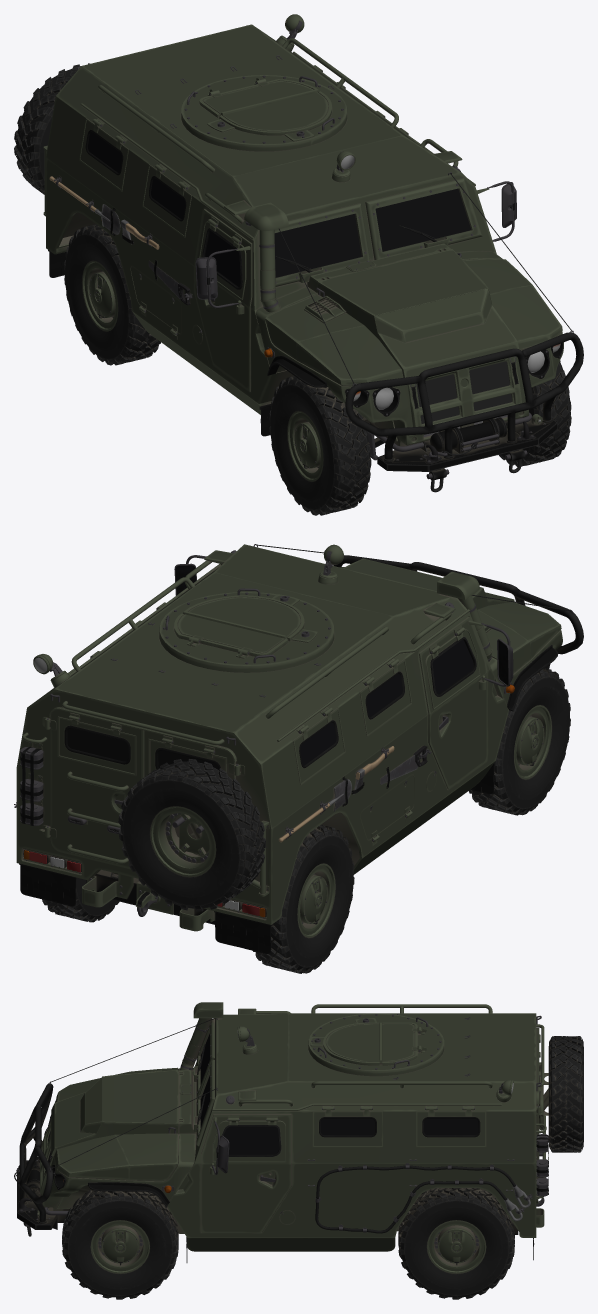
Rendered from tactical_car.glb.
The picture shows the model from 3 angles, top to bottom: view 1: azimuth 30°, elevation 25°; view 2: azimuth 150°, elevation 25°; view 3: azimuth 270°, elevation 25°; orthographic projection. The views are drawn at different scales.
Visible parts, largest first — view 1: Base.001, Tracks; view 2: Base.001, Tracks; view 3: Base.001, Tracks.
Part boxes in pixels (x1,y1,x2,y2): Base.001: (14, 14, 583, 492); Tracks: (64, 224, 571, 515); Base.001: (14, 544, 583, 953); Tracks: (42, 668, 570, 973); Base.001: (14, 1002, 583, 1262); Tracks: (44, 1188, 514, 1299).
Size of the model in its own units: 3.04 by 2.53 by 5.76.
Materials: 2 (2 with a texture image).
